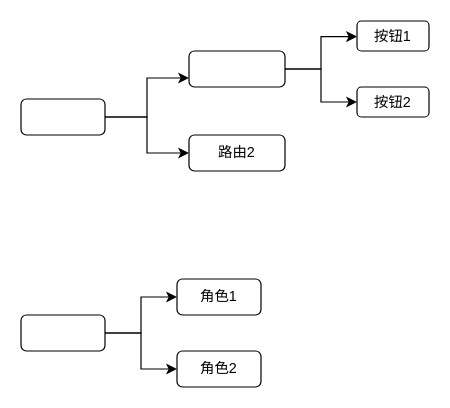
Image size: 450x408. Some labels were removed from this diagram. Here are the shapes that lost their labels. From the top down, the box of each, then its label:
(188, 50, 285, 87): 路由1
(20, 98, 105, 135): 角色管理
(20, 314, 105, 351): 用户管理
